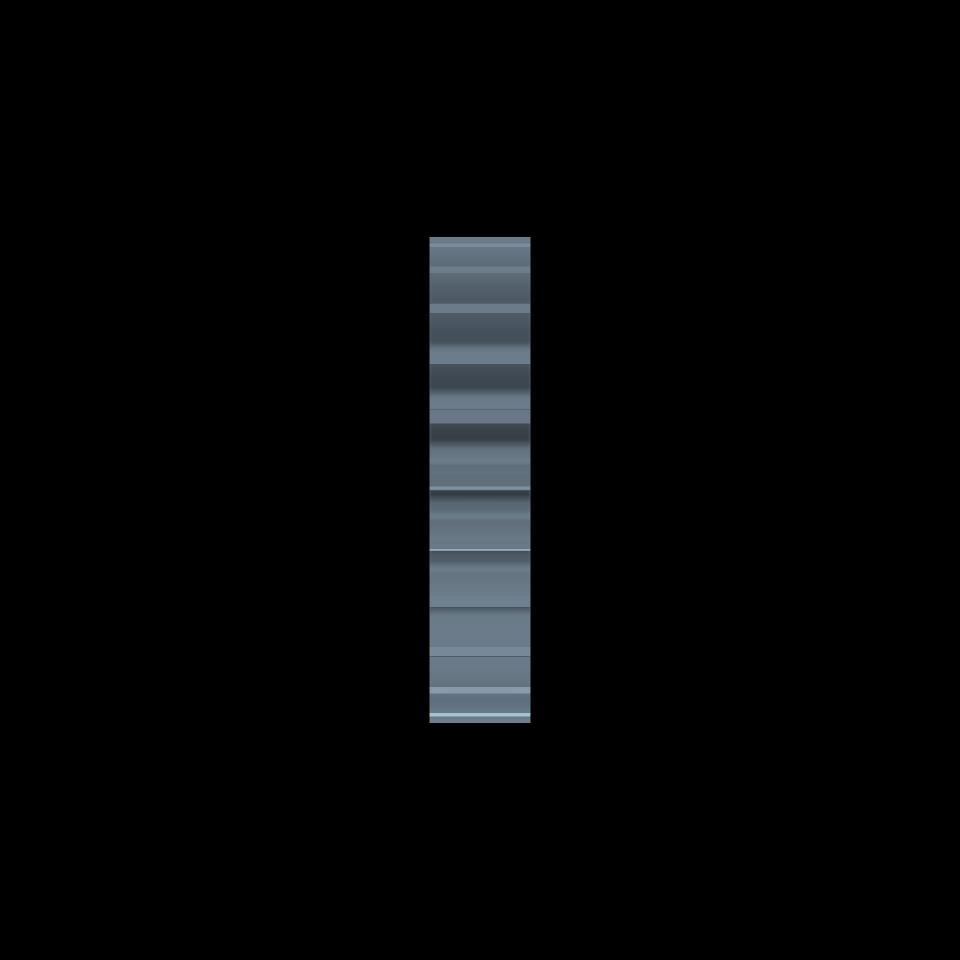Straight: (429, 236, 529, 722)
